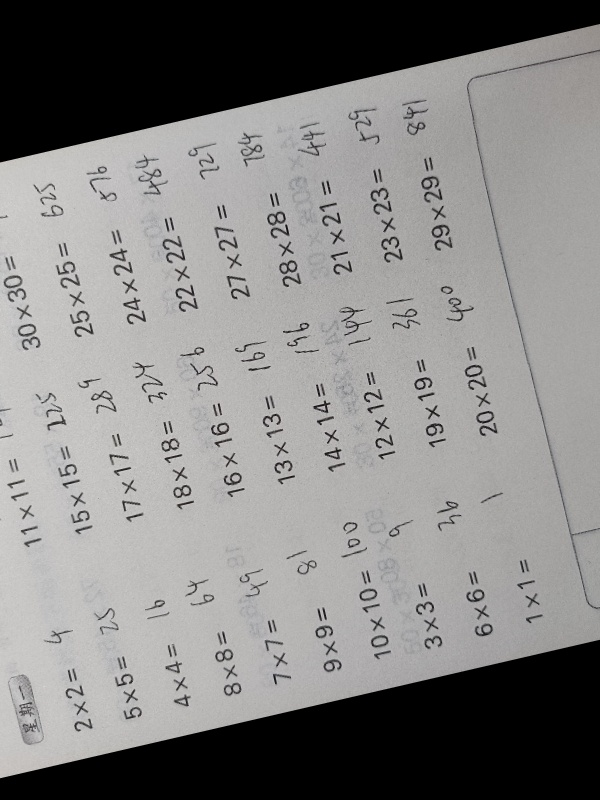equation: (82, 355, 142, 537), (180, 532, 237, 710), (186, 329, 242, 501), (481, 468, 540, 630), (435, 469, 489, 644), (393, 278, 446, 454), (196, 132, 249, 308), (143, 144, 196, 320), (90, 156, 143, 332), (444, 268, 497, 443), (400, 82, 453, 257), (389, 480, 442, 655), (292, 304, 345, 479), (38, 170, 91, 345), (38, 367, 91, 542), (343, 290, 395, 466), (299, 106, 351, 282), (339, 490, 391, 666), (248, 119, 300, 295), (350, 95, 402, 270), (289, 503, 341, 678), (242, 316, 294, 491), (141, 341, 193, 516), (236, 537, 289, 687), (92, 572, 142, 723), (0, 379, 39, 555), (144, 569, 193, 707), (44, 601, 92, 738), (0, 183, 37, 358)
